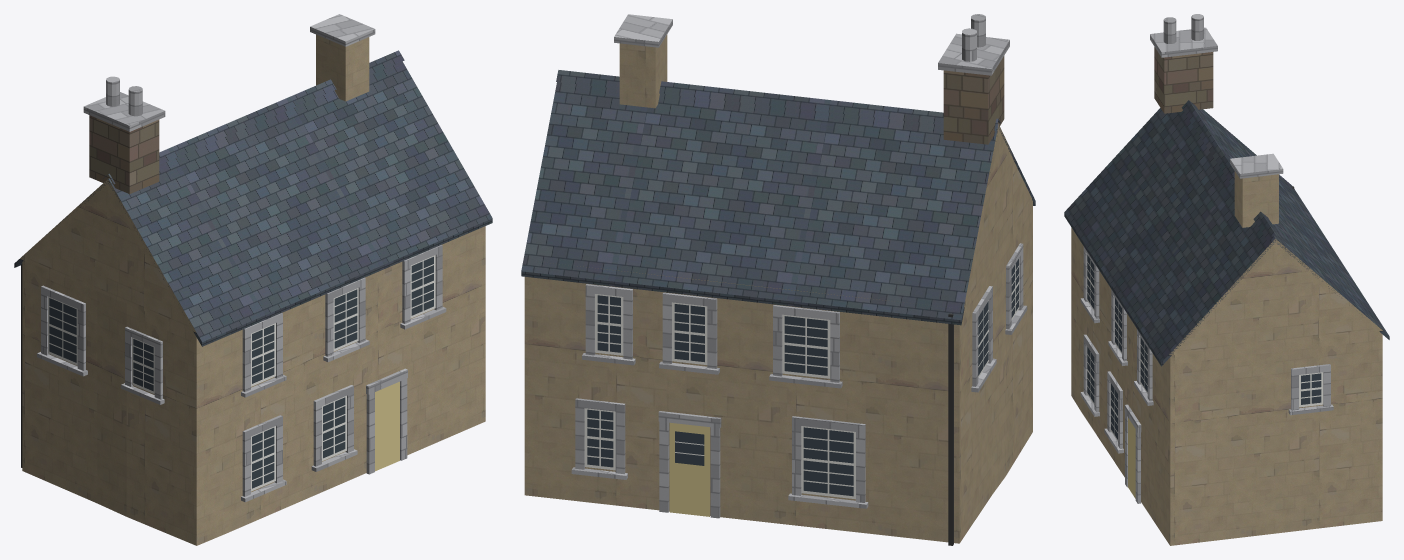
The picture shows the model from 3 angles, left to right: view 1: azimuth 30°, elevation 25°; view 2: azimuth 150°, elevation 25°; view 3: azimuth 270°, elevation 25°; orthographic projection. The views are drawn at different scales.
Visible parts, largest first — view 1: house_wall, house_slate, house_margin, house_glass, house_stack, house_frame, house_door; view 2: house_slate, house_wall, house_margin, house_glass, house_frame, house_stack, house_door, house_iron; view 3: house_wall, house_slate, house_margin, house_stack, house_glass, house_frame, house_door.
Boxes of the visible parts, left/top/right/bottom form: house_wall: left=20, top=34, right=485, bottom=545; house_slate: left=14, top=50, right=492, bottom=346; house_margin: left=37, top=14, right=446, bottom=502; house_glass: left=49, top=256, right=433, bottom=488; house_stack: left=89, top=115, right=159, bottom=193; house_frame: left=48, top=255, right=435, bottom=491; house_door: left=375, top=381, right=399, bottom=471; house_slate: left=521, top=70, right=1035, bottom=325; house_wall: left=524, top=34, right=1032, bottom=543; house_margin: left=571, top=14, right=1027, bottom=518; house_glass: left=587, top=259, right=1018, bottom=496; house_frame: left=584, top=258, right=1019, bottom=499; house_stack: left=943, top=56, right=1004, bottom=144; house_door: left=669, top=422, right=709, bottom=516; house_iron: left=948, top=313, right=953, bottom=545; house_wall: left=1071, top=171, right=1382, bottom=545; house_slate: left=1064, top=100, right=1389, bottom=366; house_margin: left=1080, top=14, right=1333, bottom=503; house_stack: left=1154, top=47, right=1213, bottom=113; house_glass: left=1087, top=255, right=1321, bottom=439; house_frame: left=1087, top=254, right=1323, bottom=441; house_door: left=1128, top=418, right=1135, bottom=498.
Bounding box in the file's own units: 11.14 × 10.97 × 8.66.
8 materials, 4 textured.
